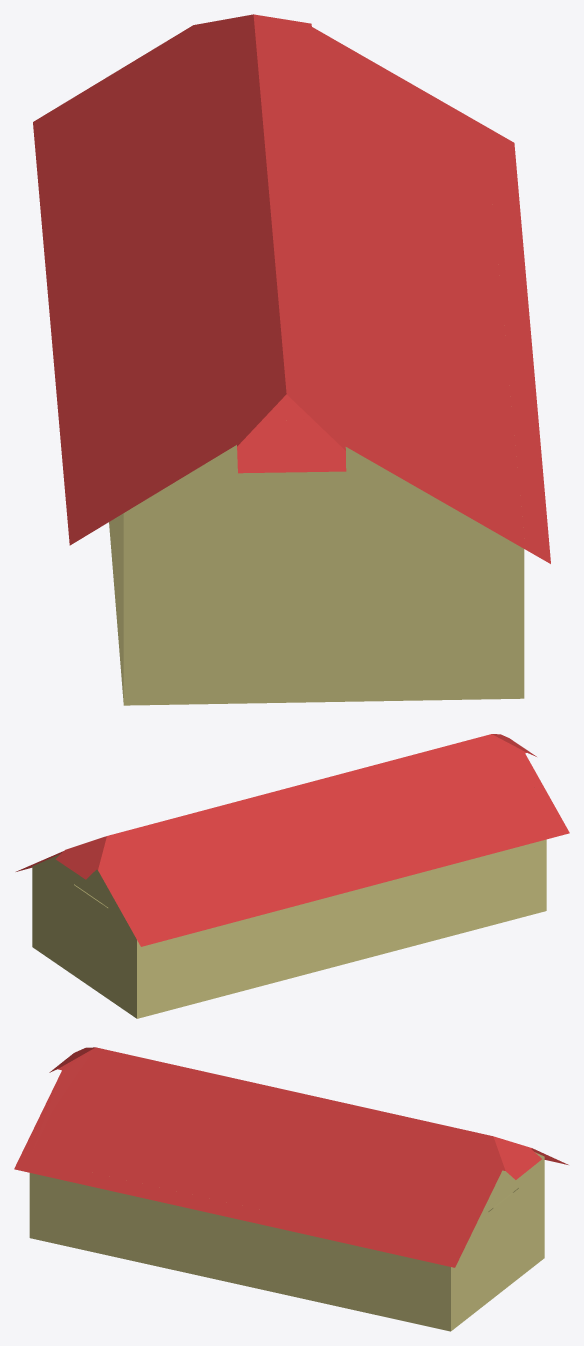
The picture shows the model from 3 angles, top to bottom: view 1: azimuth 30°, elevation 25°; view 2: azimuth 150°, elevation 25°; view 3: azimuth 270°, elevation 25°; orthographic projection. The views are drawn at different scales.
Size of the model in its own units: 45.85 by 57.12 by 16.88.
